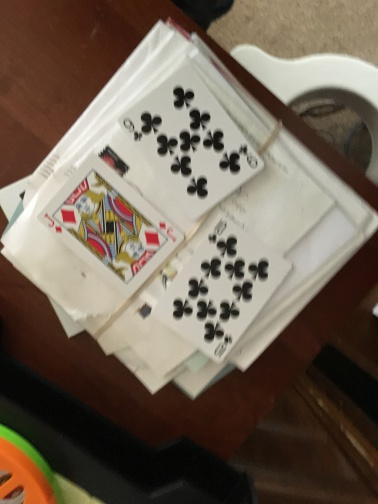jack: (42, 154, 186, 291)
nine: (114, 67, 267, 214)
ten: (177, 210, 293, 360)
